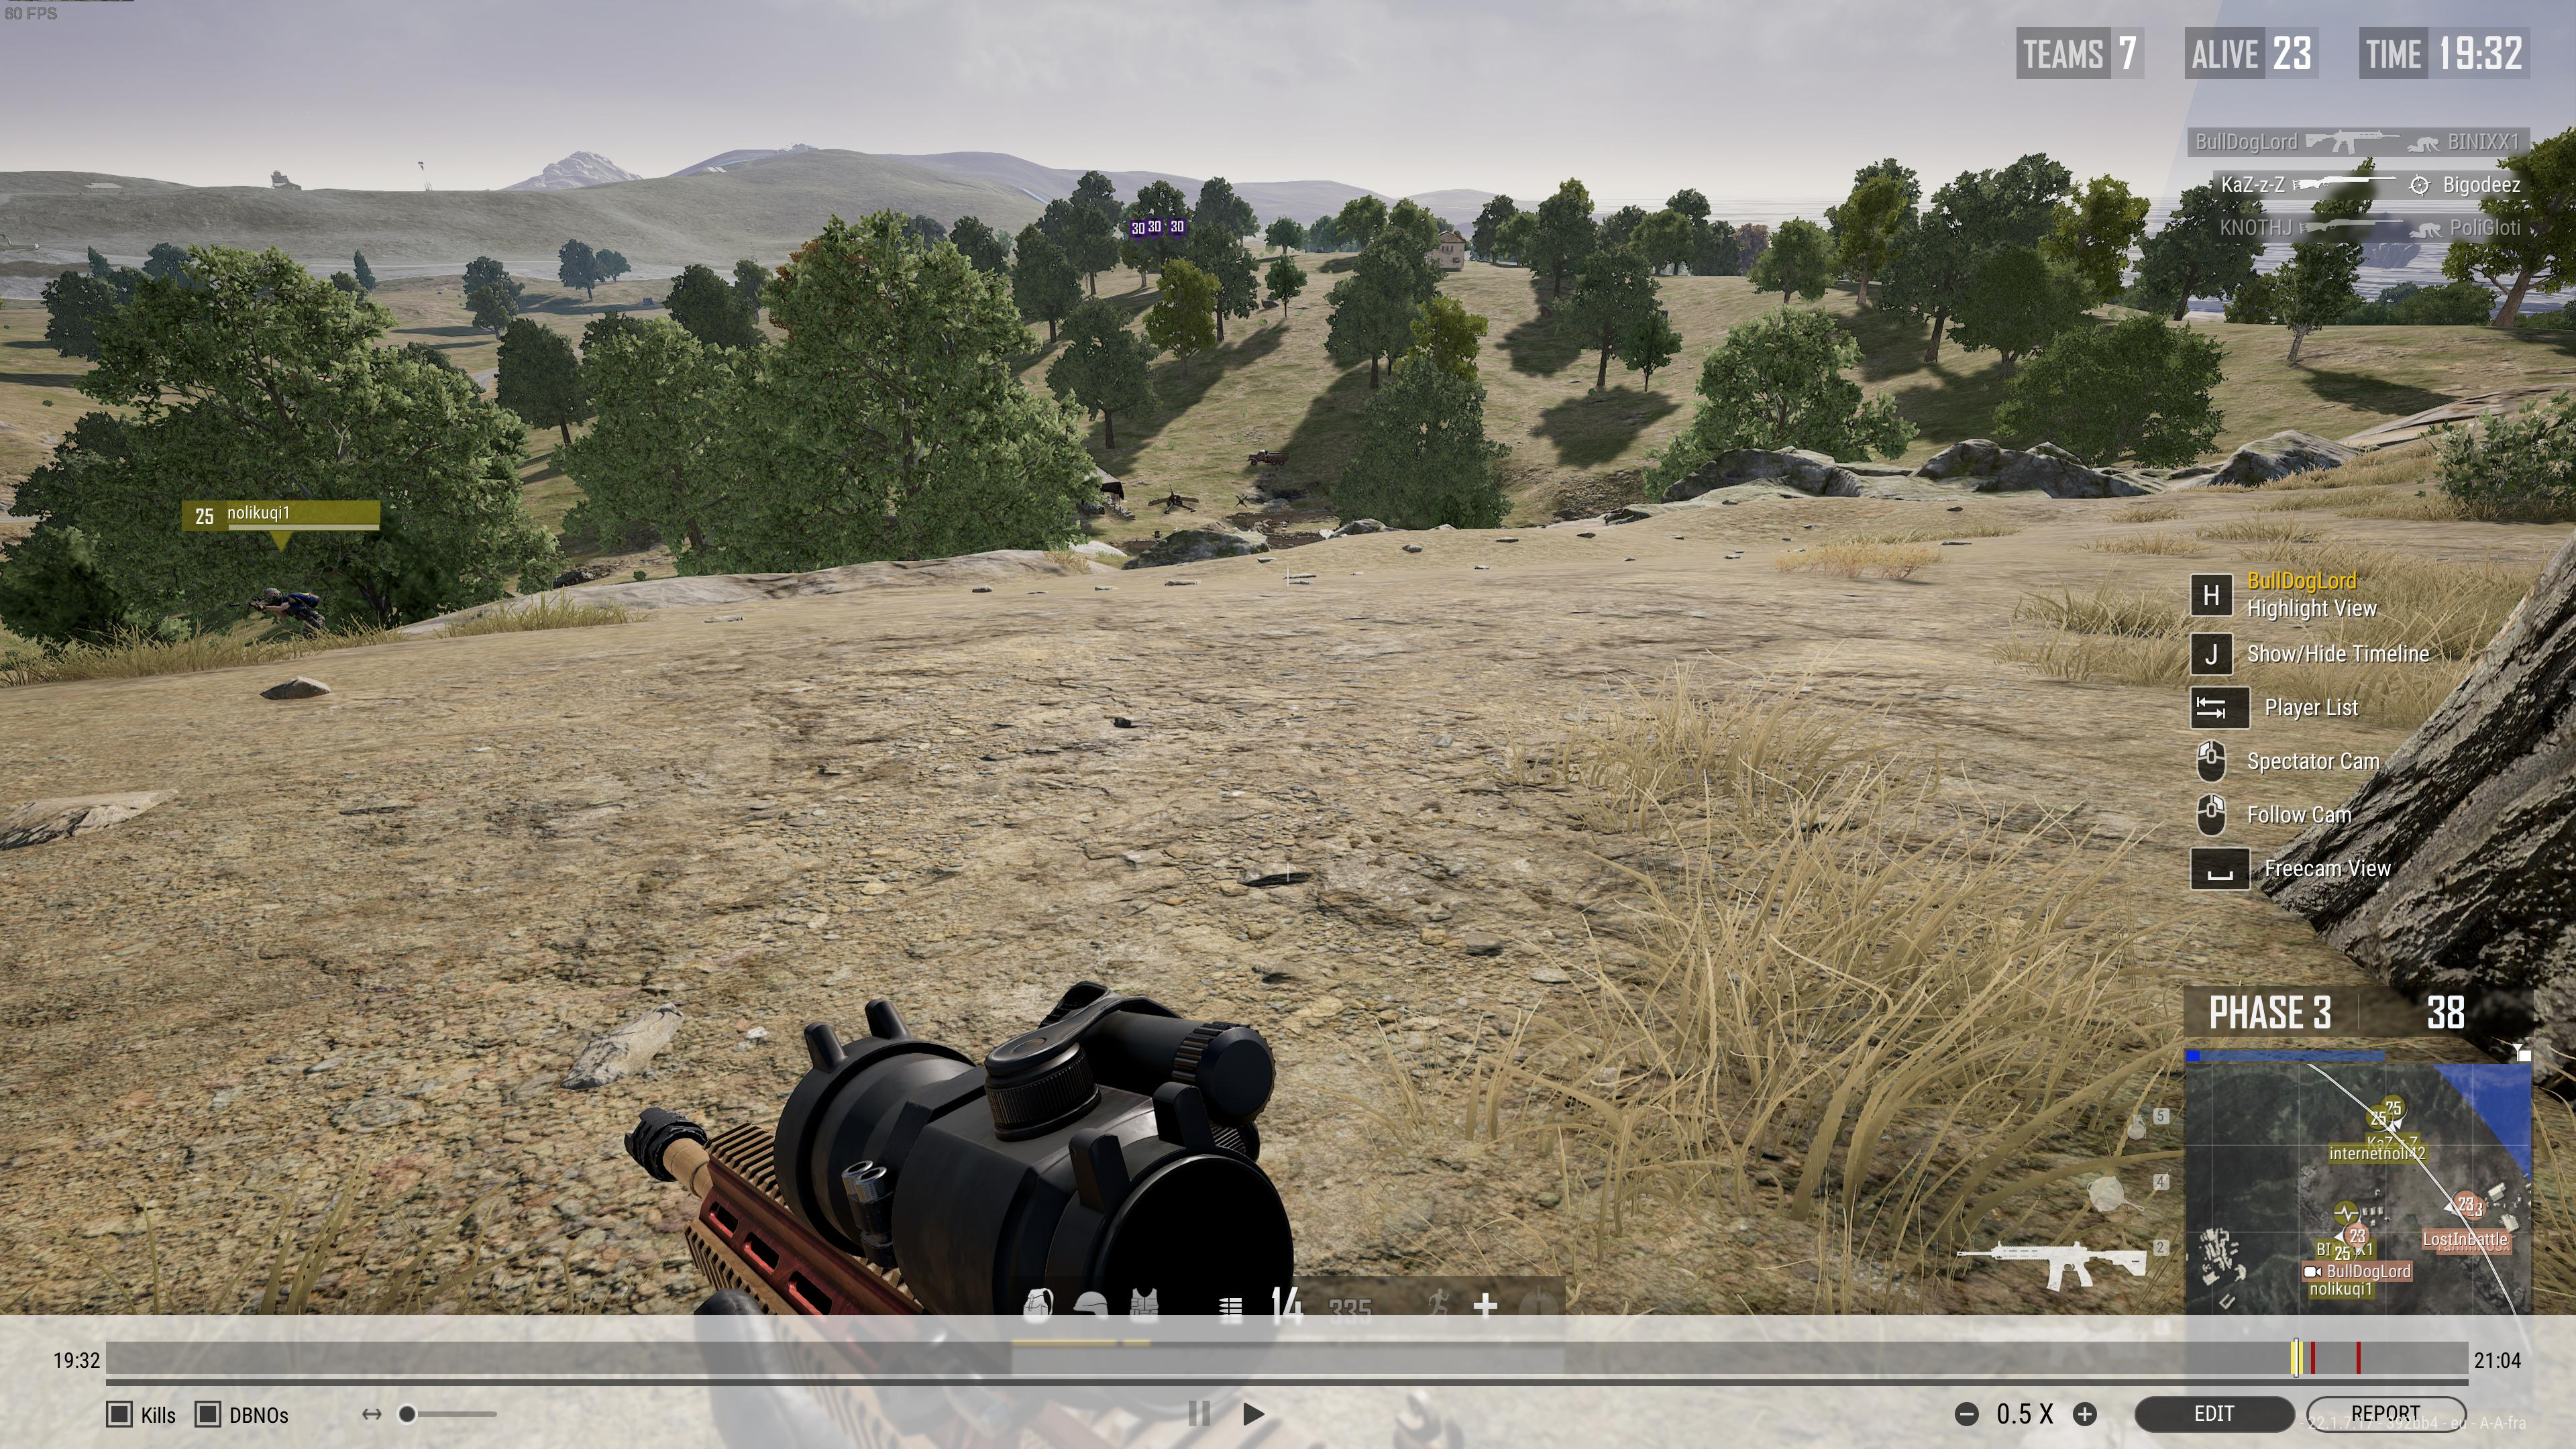enemy: (249, 587, 326, 640)
enemy_head: (262, 587, 281, 605)
